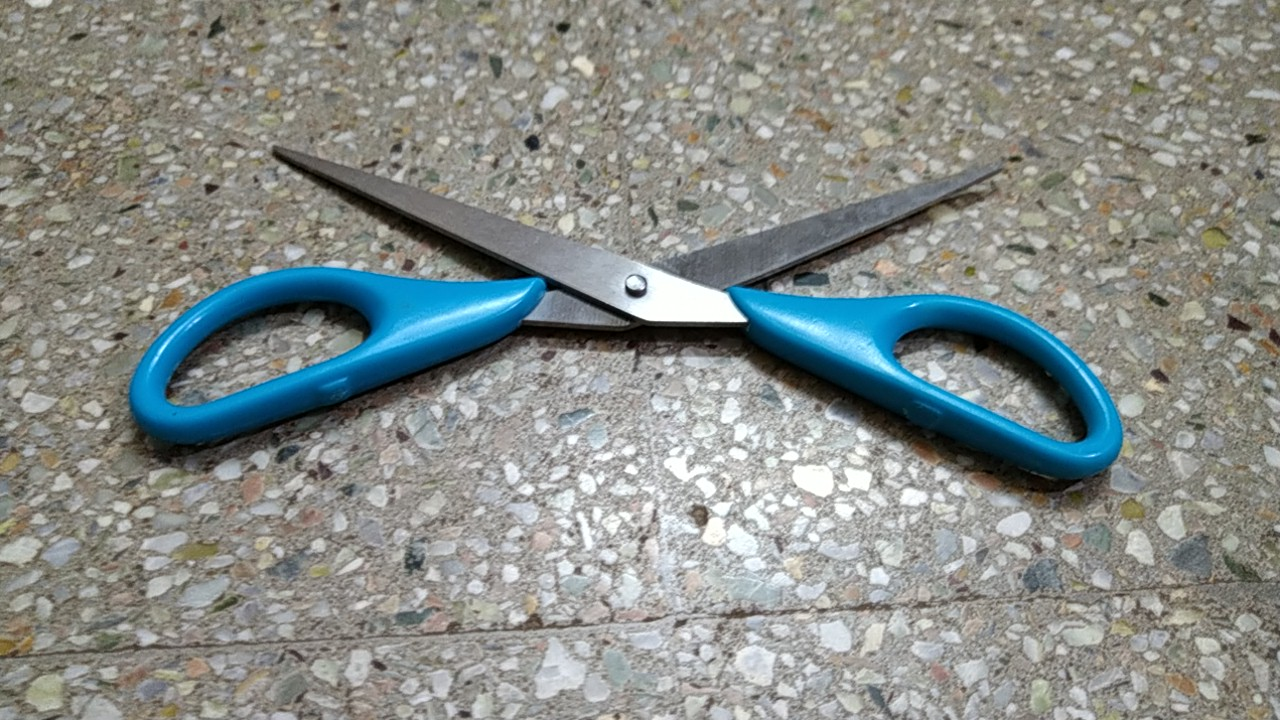scissor: (119, 132, 1138, 507)
